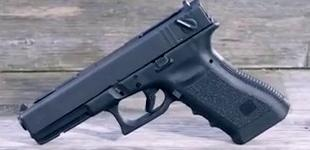gun: (1, 1, 310, 150)
